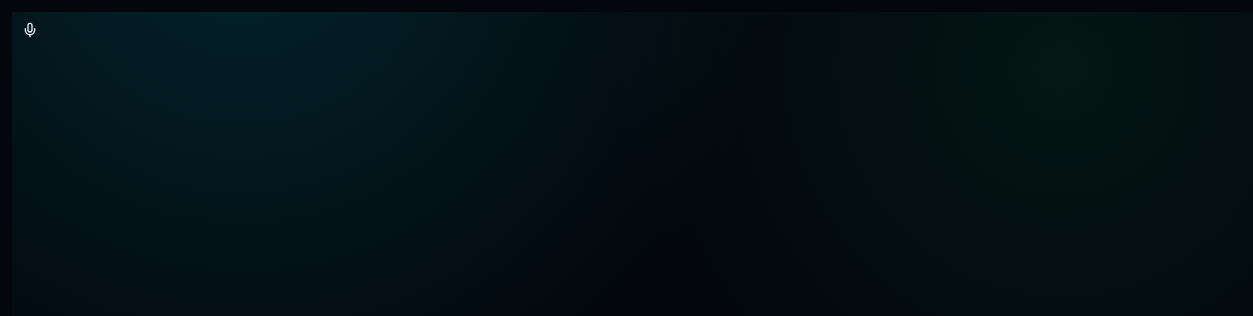
it: VoiceRecorder › explains a denied microphone instead of failing silently
Click the button named "Record a voice message" at [30, 30], box [12,12,48,48]
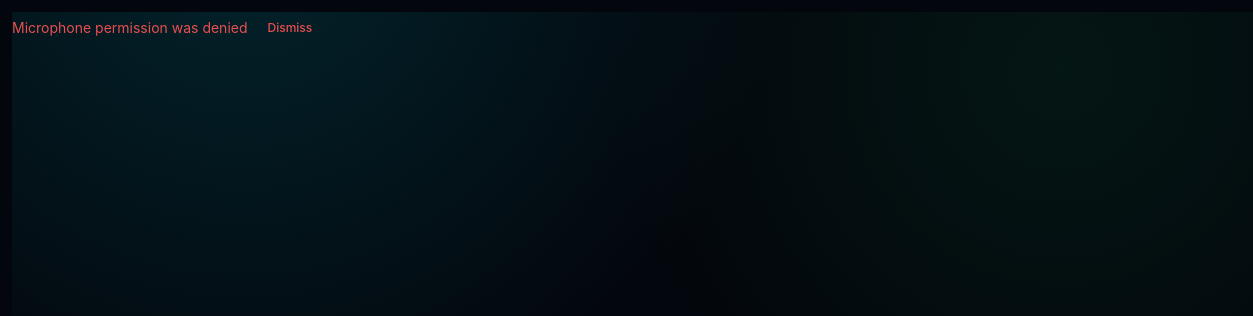
Expected: the text "Microphone permission was denied" is shown, [12,18,248,38]
